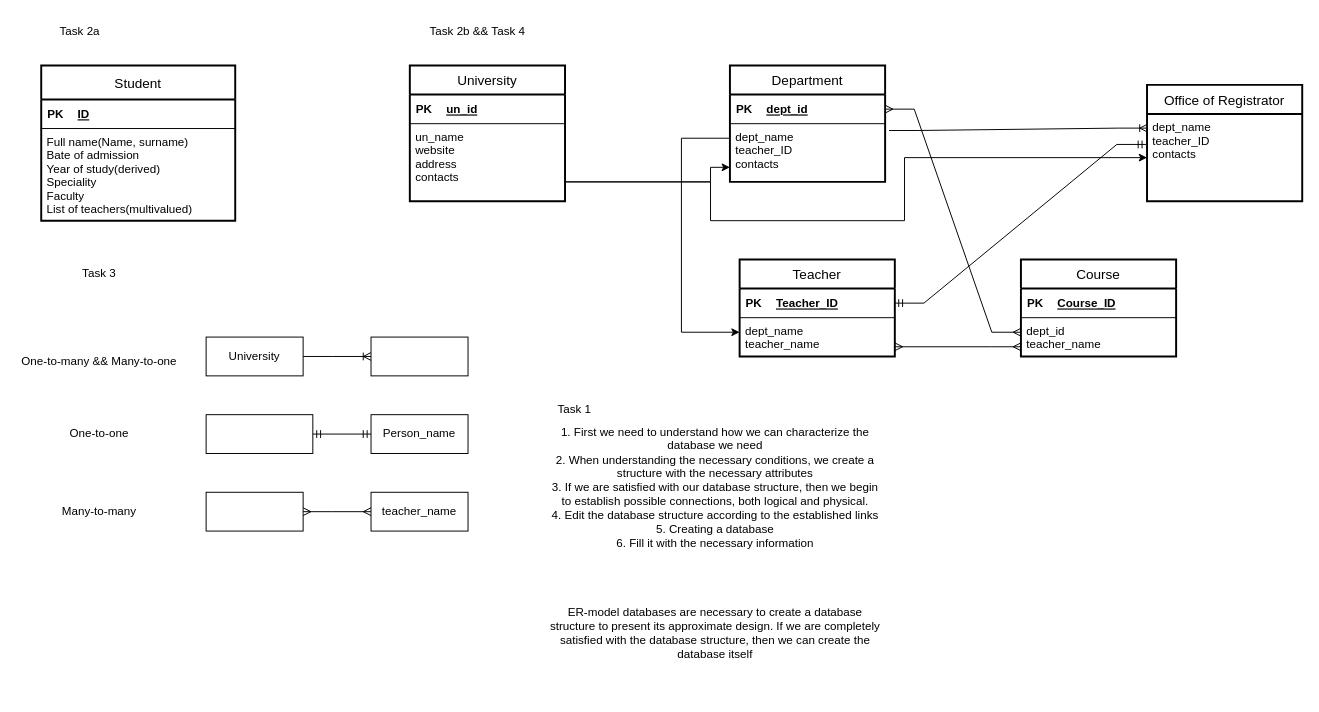
This 1319x712 diagram has some shape labels left out. The shapes that lost their labels are listed below. From the top down, each one's centre as x and y in pixels, then its label:
At pixel 419 356: "Student_name".
At pixel 259 433: "National_ID".
At pixel 254 511: "dept_name".
